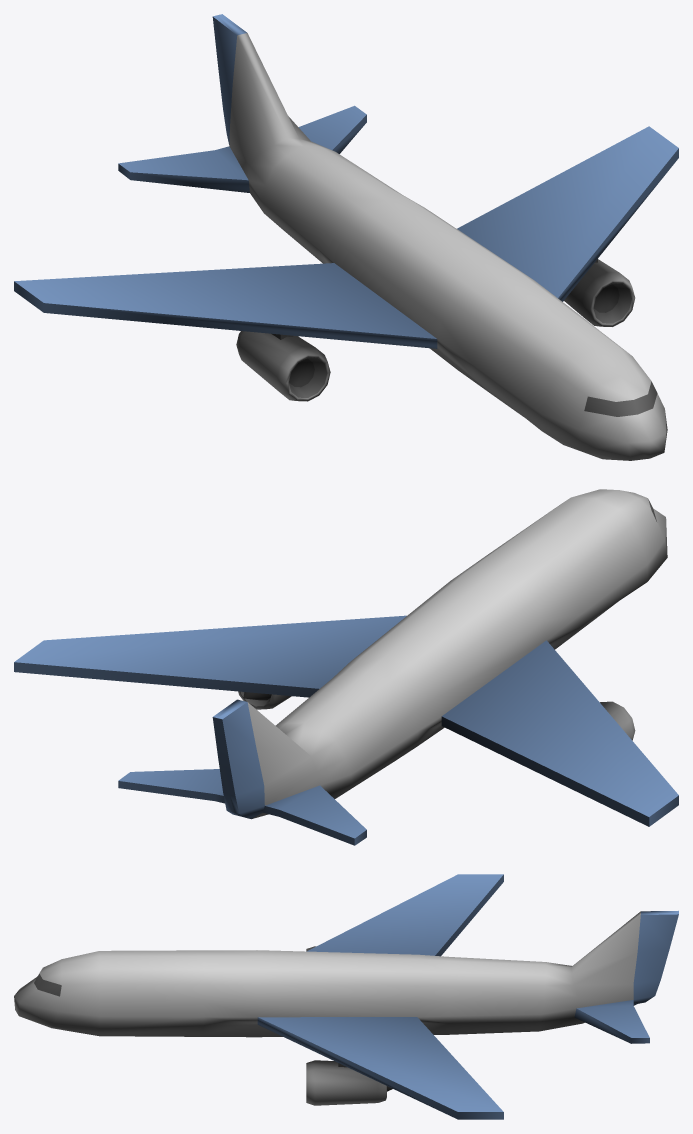
The model's file is human-toys-toy-airplane_v1.fbx.
The picture shows the model from 3 angles, top to bottom: view 1: azimuth 30°, elevation 25°; view 2: azimuth 150°, elevation 25°; view 3: azimuth 270°, elevation 25°; orthographic projection. The views are drawn at different scales.
Parts seen in each view (by area): view 1: Toy Airplane; view 2: Toy Airplane; view 3: Toy Airplane.
Part boxes in pixels (left/top/right/bottom): Toy Airplane: left=14, top=14, right=678, bottom=460; Toy Airplane: left=14, top=489, right=678, bottom=845; Toy Airplane: left=14, top=874, right=678, bottom=1119.
Bounding box in the file's own units: 0.2539 × 0.0667 × 0.3.
